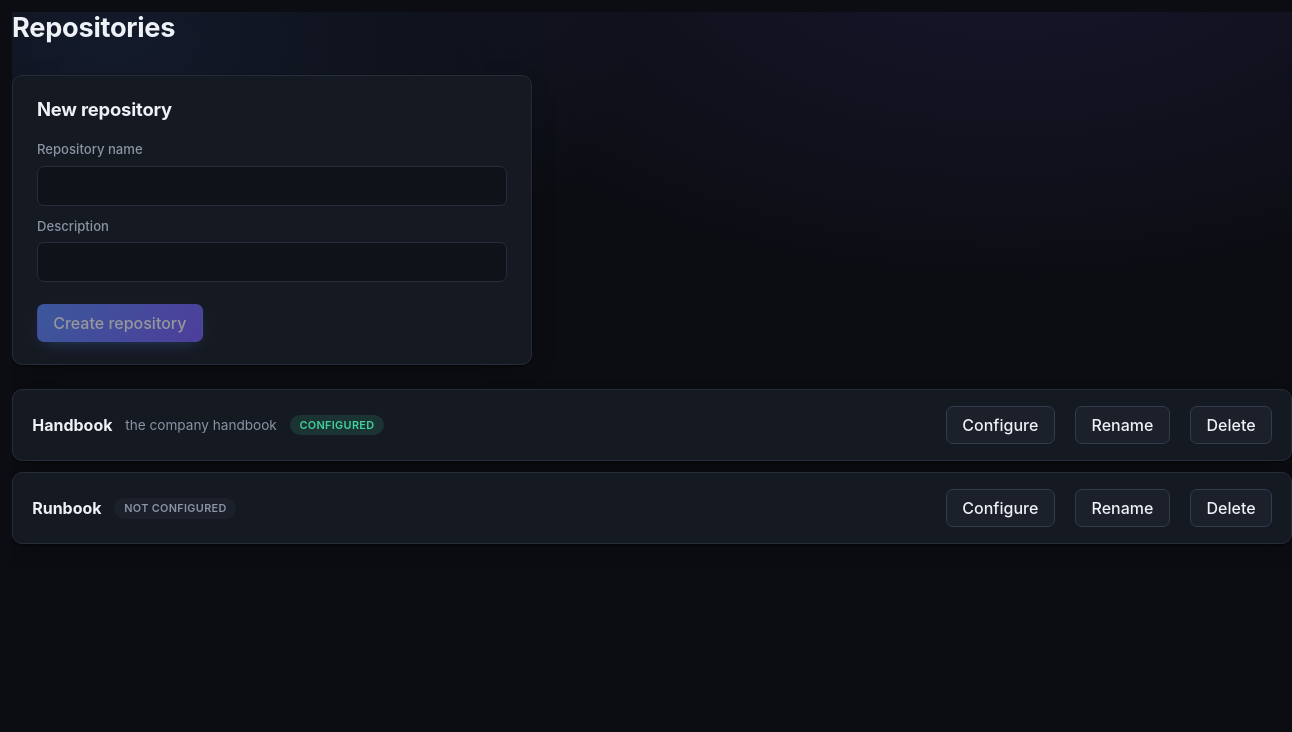
Test: AdminRepositoriesPage — rename & delete (card #89) › deletes a repository after name confirmation
Click the button "Delete" in the row of "the company handbook" at coordinates (1231, 425), box [1190,406,1272,444]
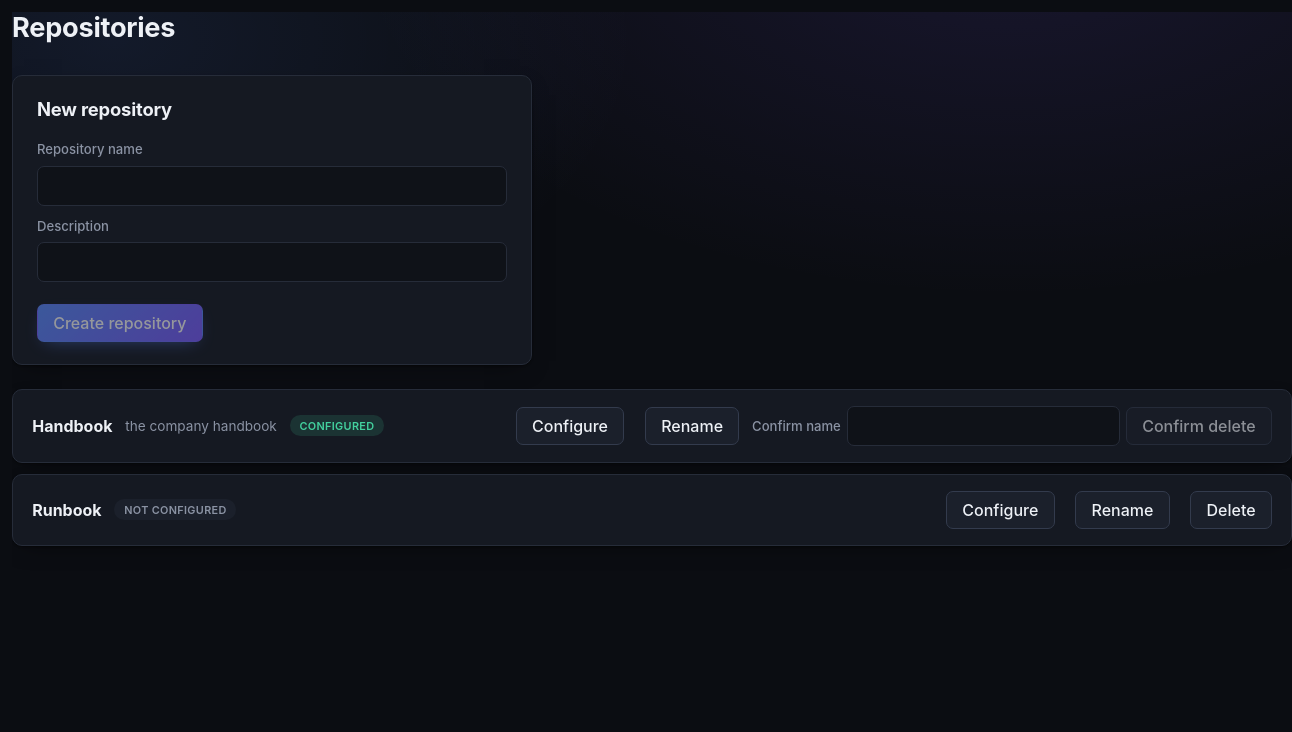
Type "Handbook" into the field labelled "Confirm name" at coordinates (983, 426), box [847,406,1120,446]
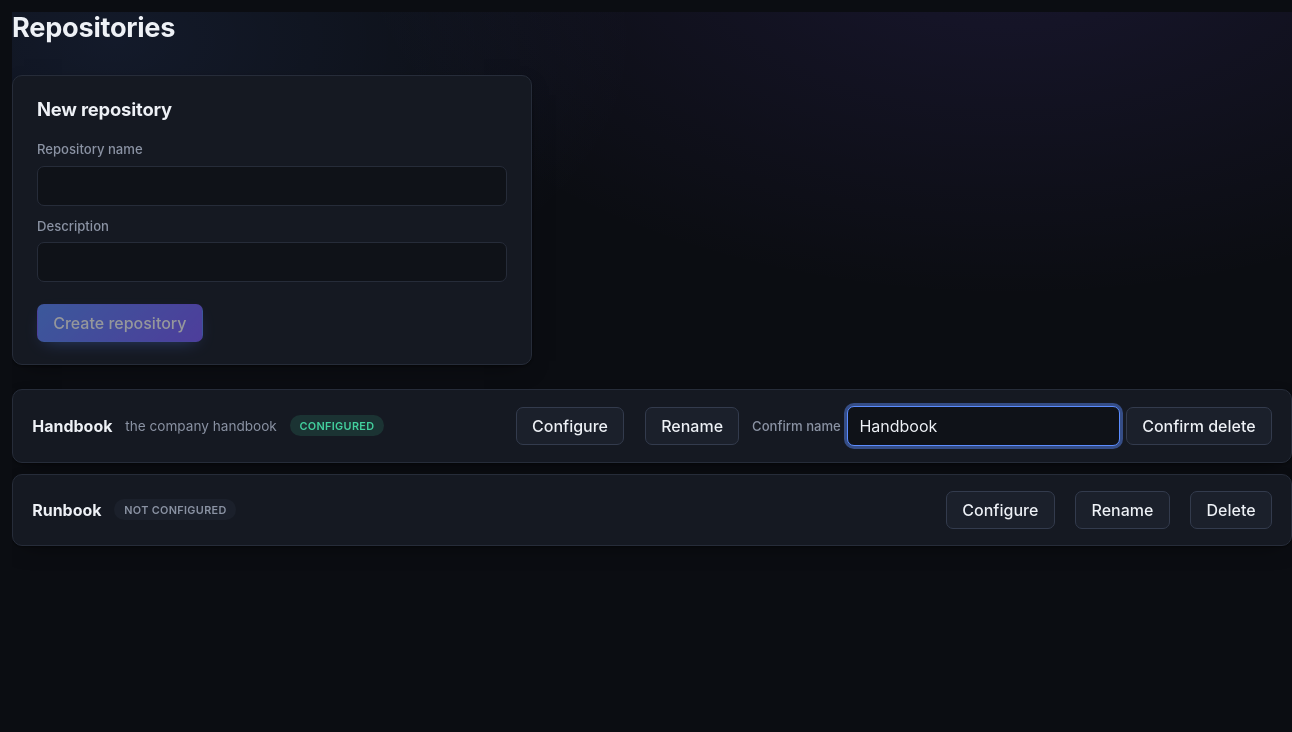
Click the button "Confirm delete" at coordinates (1199, 426), box [1126,407,1272,445]
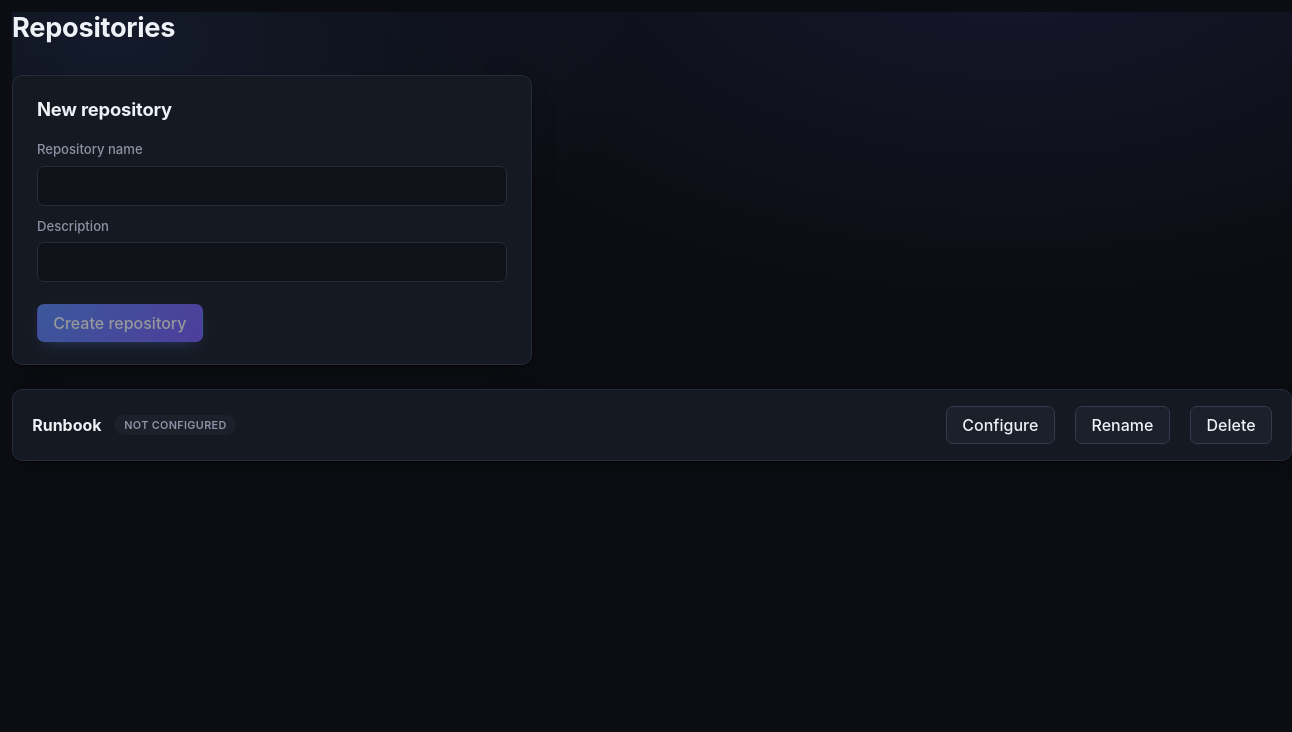
Expected: the text "Handbook" is gone
